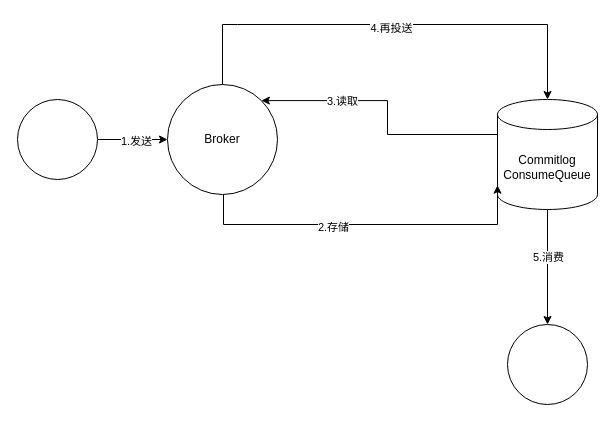
The diagram is 615 pixels wide and 422 high, and some of its shapes have lost their labels. Here are the shapes that lost their labels. From the top down, the centre of each, then its label:
At point 57,139: "client".
At point 547,364: "Consumer".
